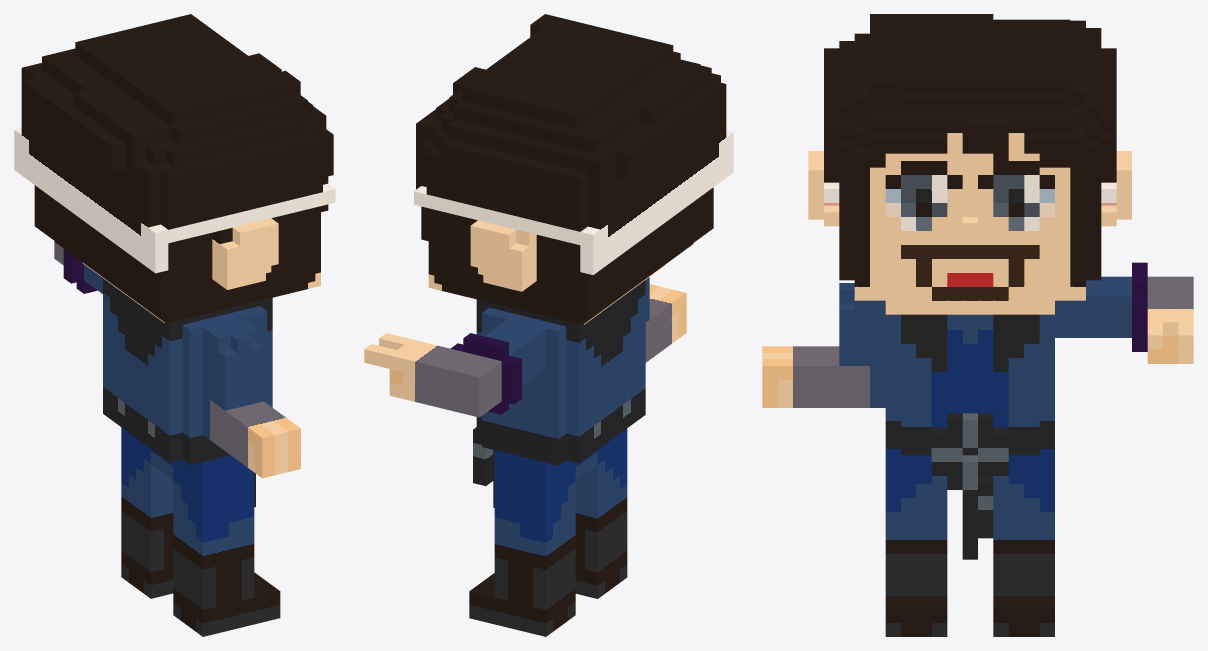
Rendered from 黑奇异.gltf.
The picture shows the model from 3 angles, left to right: view 1: azimuth 30°, elevation 25°; view 2: azimuth 150°, elevation 25°; view 3: azimuth 270°, elevation 25°; orthographic projection. The views are drawn at different scales.
Parts seen in each view (by area): view 1: Object; view 2: Object; view 3: Object.
Part boxes in pixels (x1,y1,x2,y2): Object: (14, 14, 335, 636); Object: (364, 14, 733, 636); Object: (762, 14, 1193, 636).
Bounding box in the file's own units: 16 × 40 × 28.
Materials: 1 (1 with a texture image).
